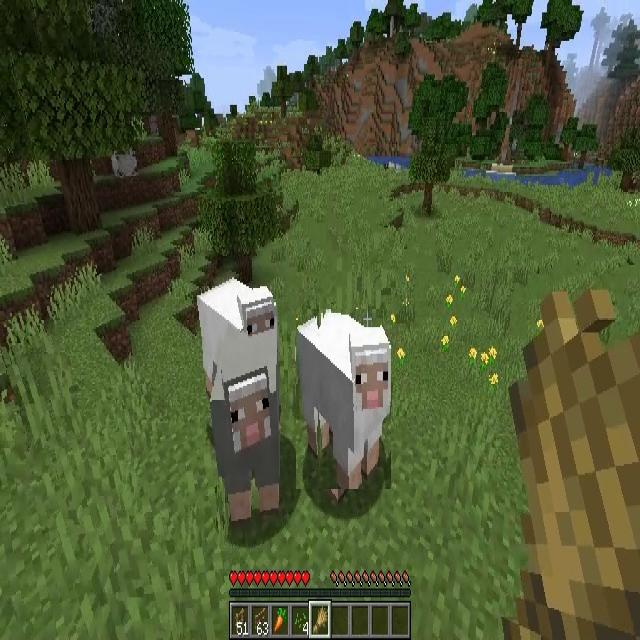flower: (396, 348, 405, 364), (469, 348, 477, 362), (480, 352, 488, 365), (490, 373, 498, 385), (442, 336, 449, 348), (490, 346, 497, 358), (450, 316, 457, 328), (447, 294, 452, 308)
sheep: (296, 309, 391, 489), (213, 330, 284, 517), (199, 275, 276, 332)
